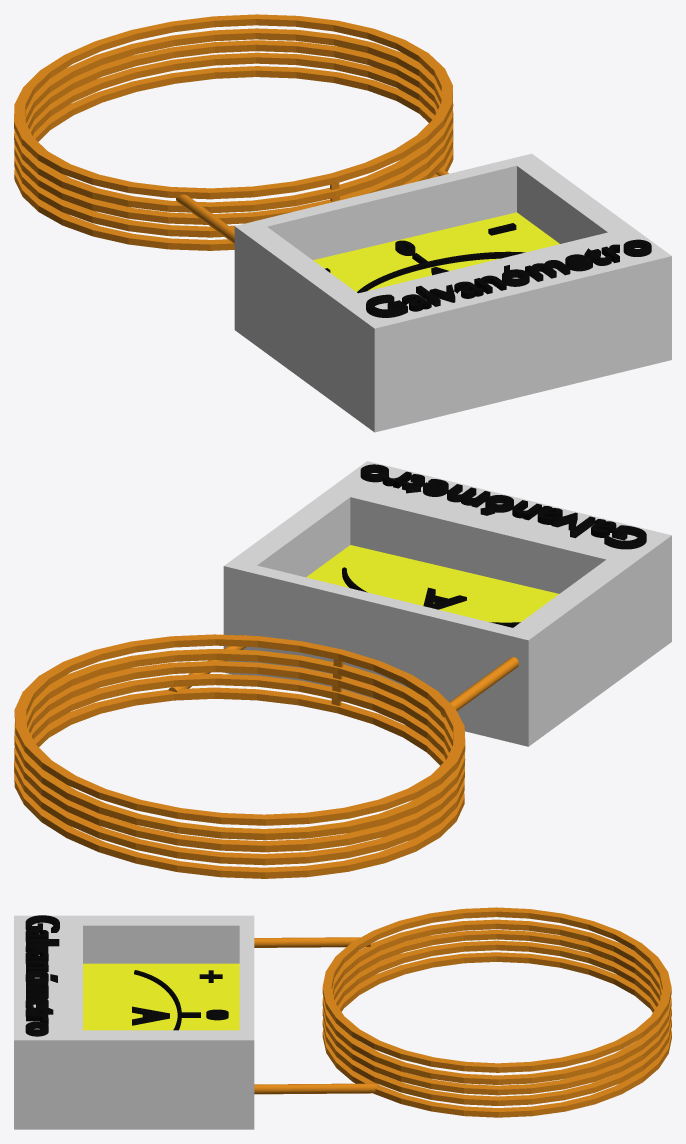
The model's file is galva.dae.
The picture shows the model from 3 angles, top to bottom: view 1: azimuth 30°, elevation 25°; view 2: azimuth 150°, elevation 25°; view 3: azimuth 270°, elevation 25°; orthographic projection. The views are drawn at different scales.
Parts seen in each view (by area): view 1: Cono.010; view 2: Cono.010; view 3: Cono.010.
Part boxes in pixels (x1,y1,x2,y2): Cono.010: [14, 14, 671, 432]; Cono.010: [14, 461, 671, 878]; Cono.010: [14, 907, 671, 1129].
Bounding box in the file's own units: 1.12 × 1.9 × 0.3009.
